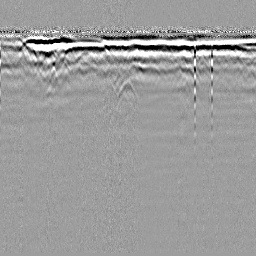cavity: (117, 78, 138, 100)
